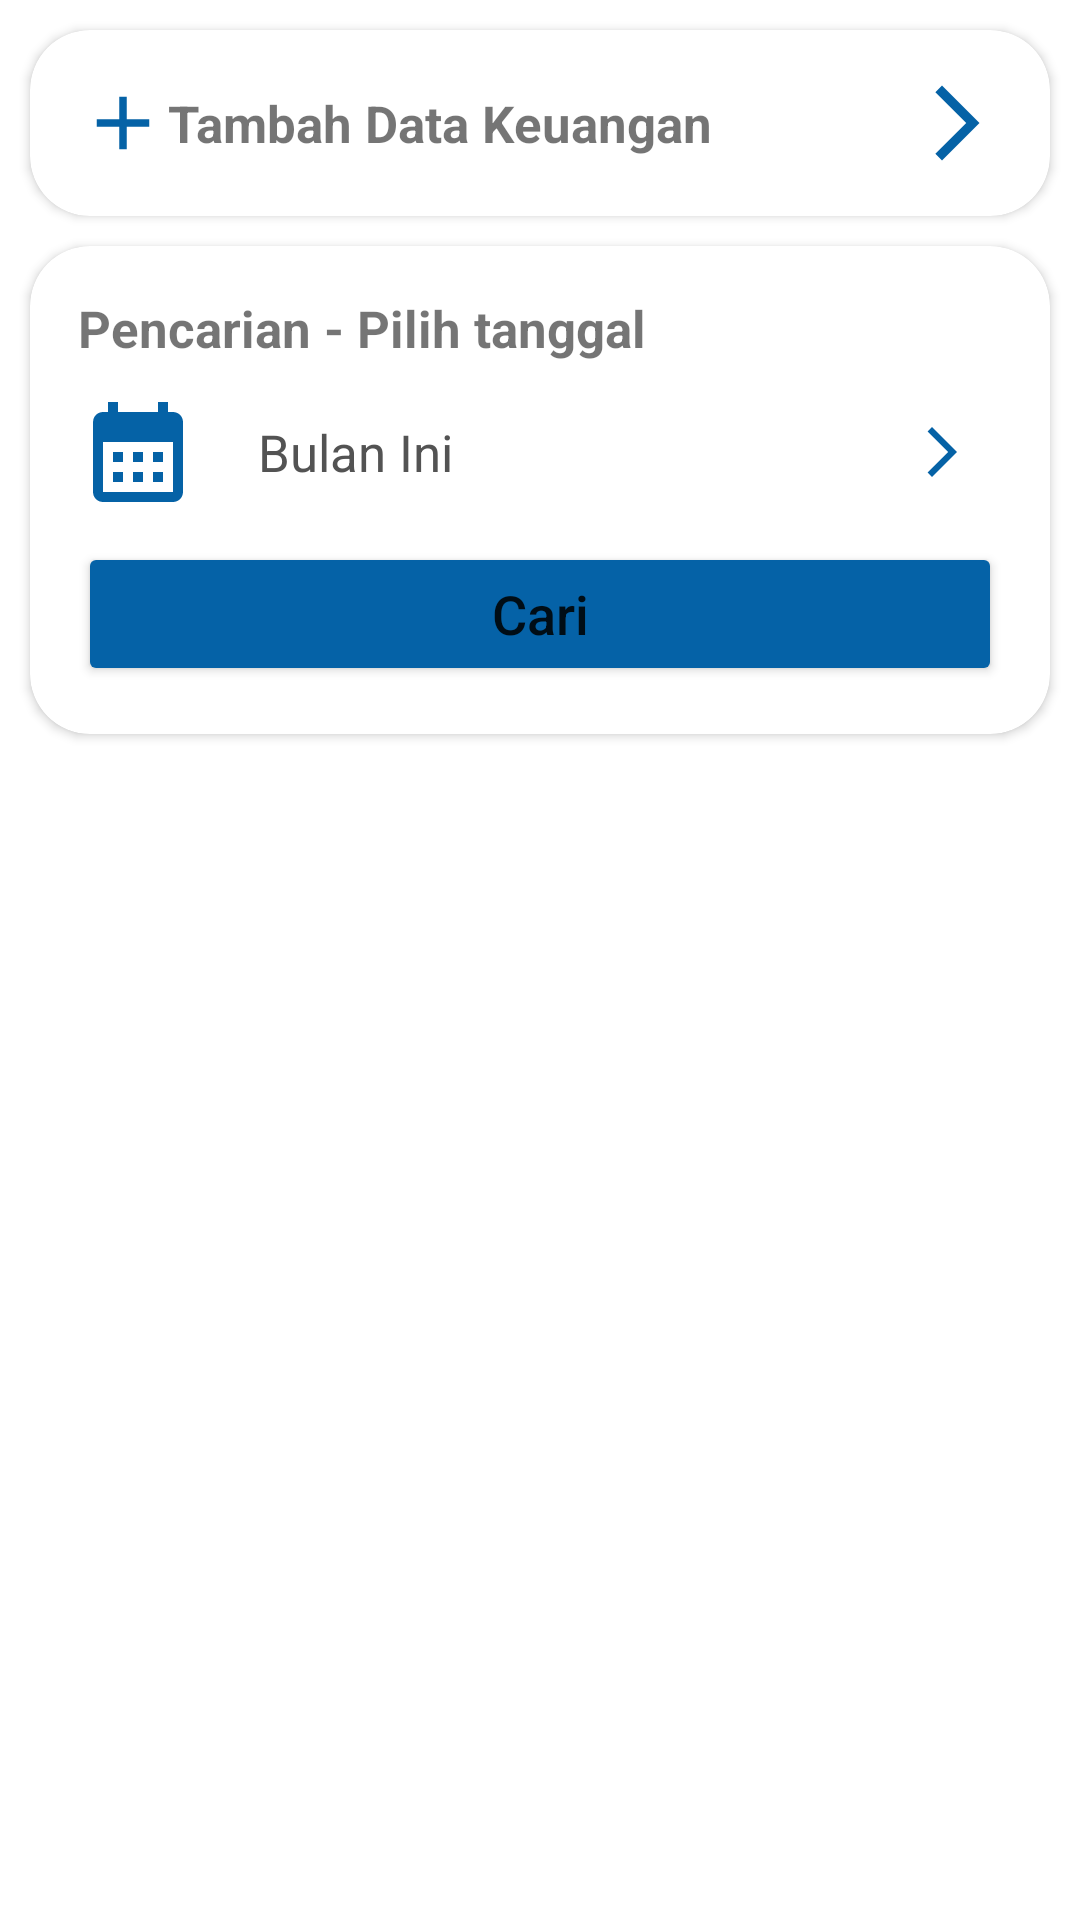

Icons on this 1080px x 1920px Android screen, each with the point to tap as point (x, y):
add: point (123, 123)
arrow forward: point (957, 123), point (942, 452)
calendar: point (138, 452)
